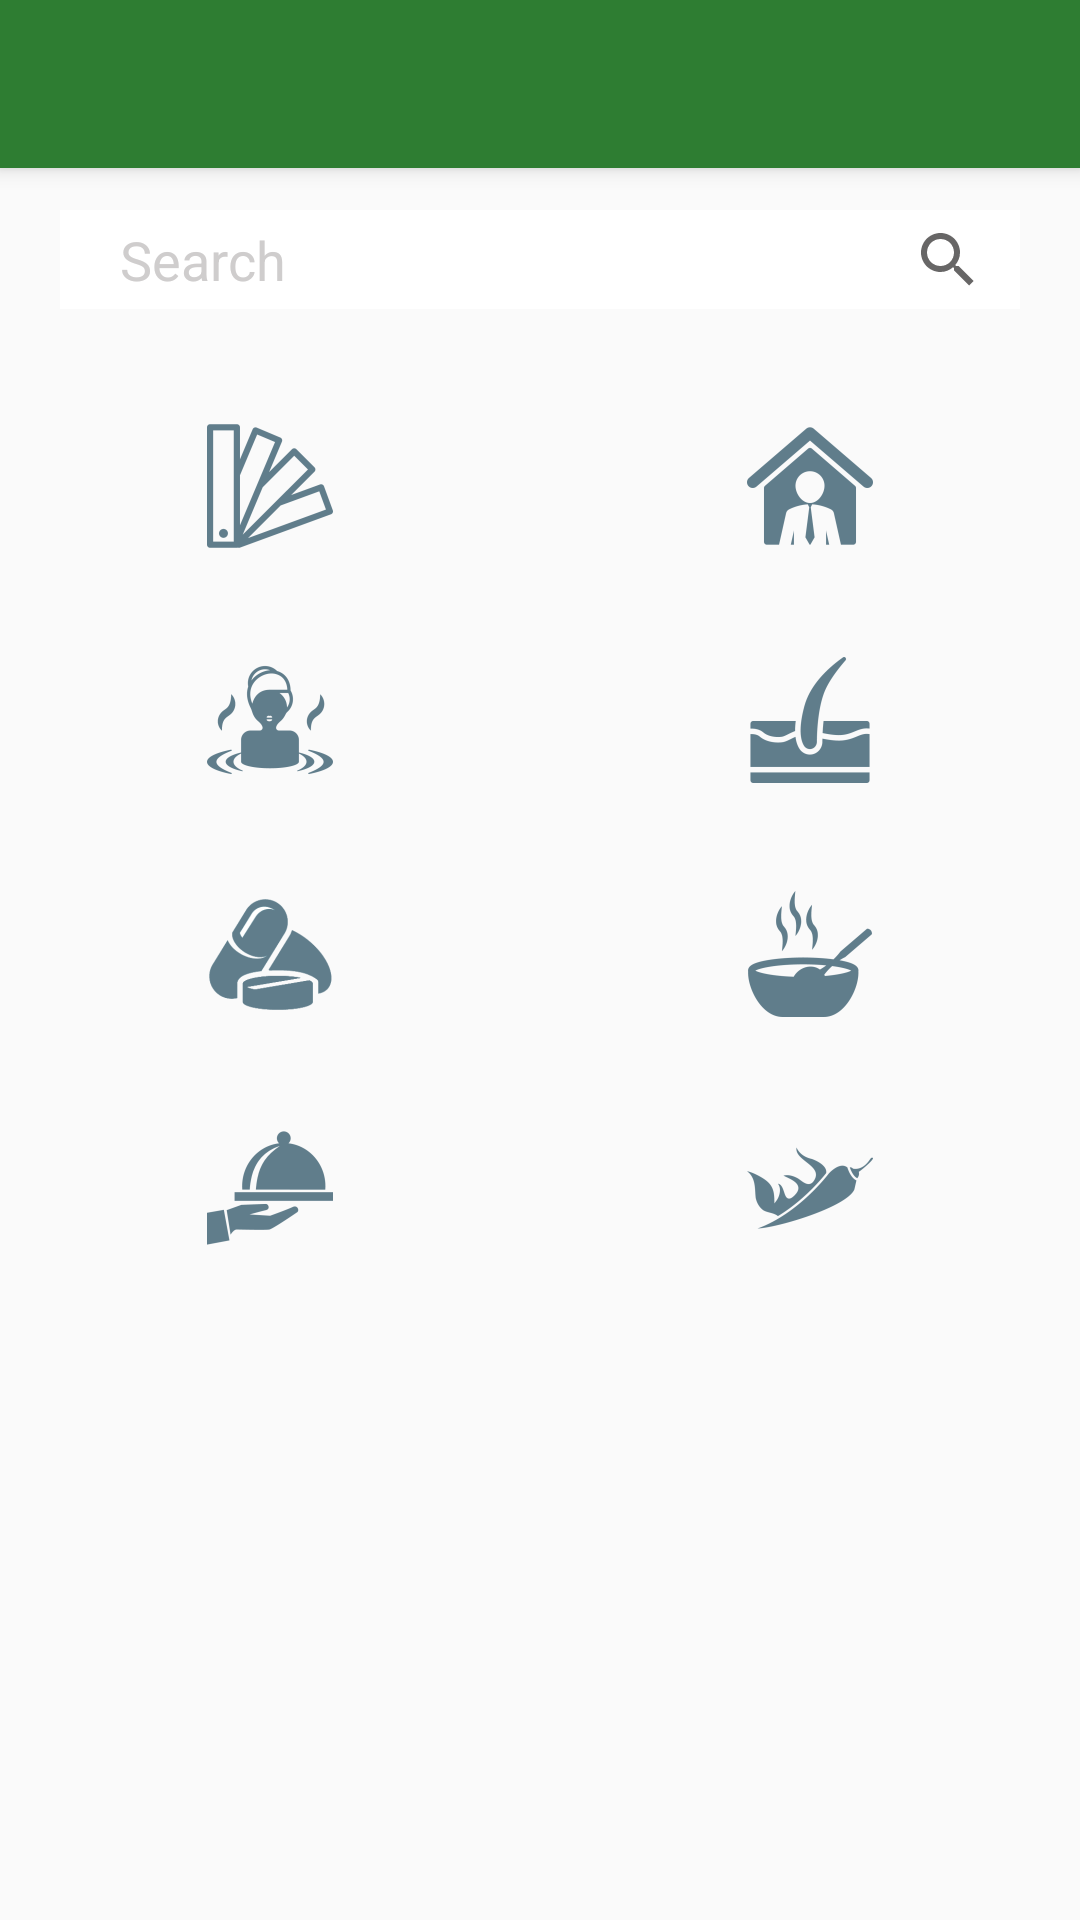

Where icons sit on this 1080x1920 app screen, as (x1, y1, x2, y2):
bath body: (207, 666, 333, 774)
category: (207, 424, 333, 548)
skin care: (750, 657, 870, 783)
spicy: (747, 1148, 873, 1229)
supplement: (209, 899, 332, 1010)
